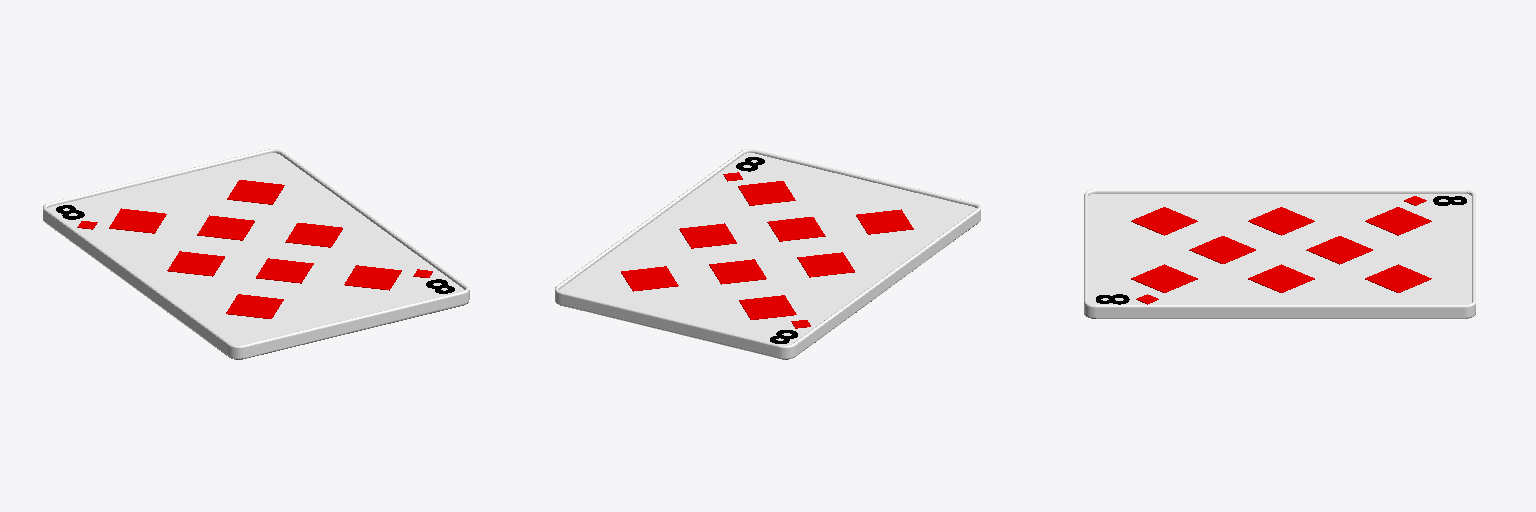
File: diamonds_8.obj
3 views of the same model, side by side, from view 1: azimuth 30°, elevation 25°; view 2: azimuth 150°, elevation 25°; view 3: azimuth 270°, elevation 25° (orthographic).
Parts seen in each view (by area): view 1: rect4266.020, rect4266.074, path4884-1-4.007, path4884-1-7.004, path4884-1-4-9.005, path4884-1-4-1-4.003, path4884-1-4-1.001, path4884-1.007, path4884-1-7-8.003, path4884-1-40.005, rect4266.110; view 2: rect4266.020, rect4266.074, path4884-1-7.004, path4884-1-4.007, path4884-1-4-1-4.003, path4884-1.007, path4884-1-4-1.001, path4884-1-40.005, path4884-1-4-9.005, path4884-1-7-8.003; view 3: rect4266.020, rect4266.074, path4884-1.007, path4884-1-4.007, path4884-1-40.005, path4884-1-4-1.001, path4884-1-7.004, path4884-1-4-9.005, path4884-1-4-1-4.003, path4884-1-7-8.003.
Part boxes in pixels (left/top/right/bottom): rect4266.020: left=47, top=153, right=464, bottom=344; rect4266.074: left=43, top=149, right=469, bottom=358; path4884-1-4.007: left=226, top=294, right=283, bottom=318; path4884-1-7.004: left=167, top=251, right=224, bottom=276; path4884-1-4-9.005: left=344, top=265, right=401, bottom=290; path4884-1-4-1-4.003: left=197, top=215, right=254, bottom=240; path4884-1-4-1.001: left=256, top=258, right=313, bottom=283; path4884-1.007: left=109, top=208, right=166, bottom=233; path4884-1-7-8.003: left=285, top=223, right=342, bottom=247; path4884-1-40.005: left=227, top=180, right=284, bottom=204; rect4266.110: left=46, top=223, right=468, bottom=359; rect4266.020: left=559, top=153, right=976, bottom=344; rect4266.074: left=555, top=149, right=980, bottom=358; path4884-1-7.004: left=797, top=252, right=854, bottom=277; path4884-1-4.007: left=856, top=209, right=913, bottom=234; path4884-1-4-1-4.003: left=709, top=259, right=766, bottom=284; path4884-1.007: left=739, top=295, right=796, bottom=319; path4884-1-4-1.001: left=767, top=217, right=825, bottom=241; path4884-1-40.005: left=621, top=266, right=678, bottom=291; path4884-1-4-9.005: left=738, top=181, right=795, bottom=205; path4884-1-7-8.003: left=679, top=223, right=736, bottom=248; rect4266.020: left=1088, top=194, right=1471, bottom=304; rect4266.074: left=1084, top=190, right=1475, bottom=318; path4884-1.007: left=1365, top=207, right=1431, bottom=235; path4884-1-4.007: left=1131, top=207, right=1197, bottom=235; path4884-1-40.005: left=1365, top=264, right=1431, bottom=292; path4884-1-4-1.001: left=1189, top=236, right=1255, bottom=263; path4884-1-7.004: left=1248, top=207, right=1314, bottom=235; path4884-1-4-9.005: left=1131, top=264, right=1197, bottom=292; path4884-1-4-1-4.003: left=1306, top=236, right=1372, bottom=264; path4884-1-7-8.003: left=1248, top=264, right=1314, bottom=292.
Size of the model in its own units: 2.88 by 0.1966 by 4.08.